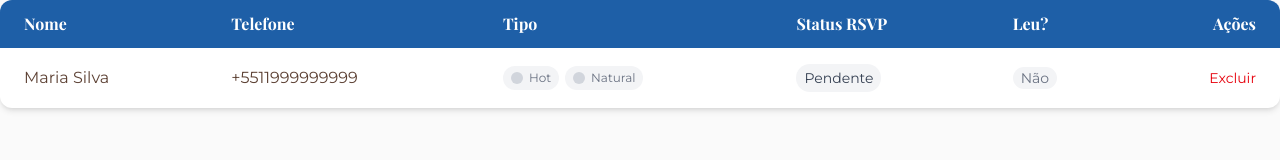
GuestsTable > Toggle Type › should rollback toggle on failure
Expected: the button "Maria Silva" is shown, [24,66,183,90]
Click the button "Hot" at x=531, y=78, box [503,66,559,90]
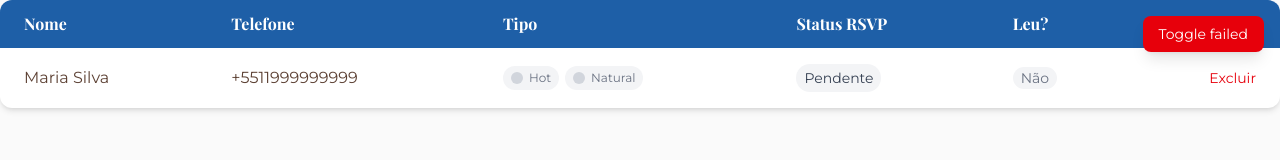
Result: the text "Toggle failed" is shown at [1142,16,1264,52]
